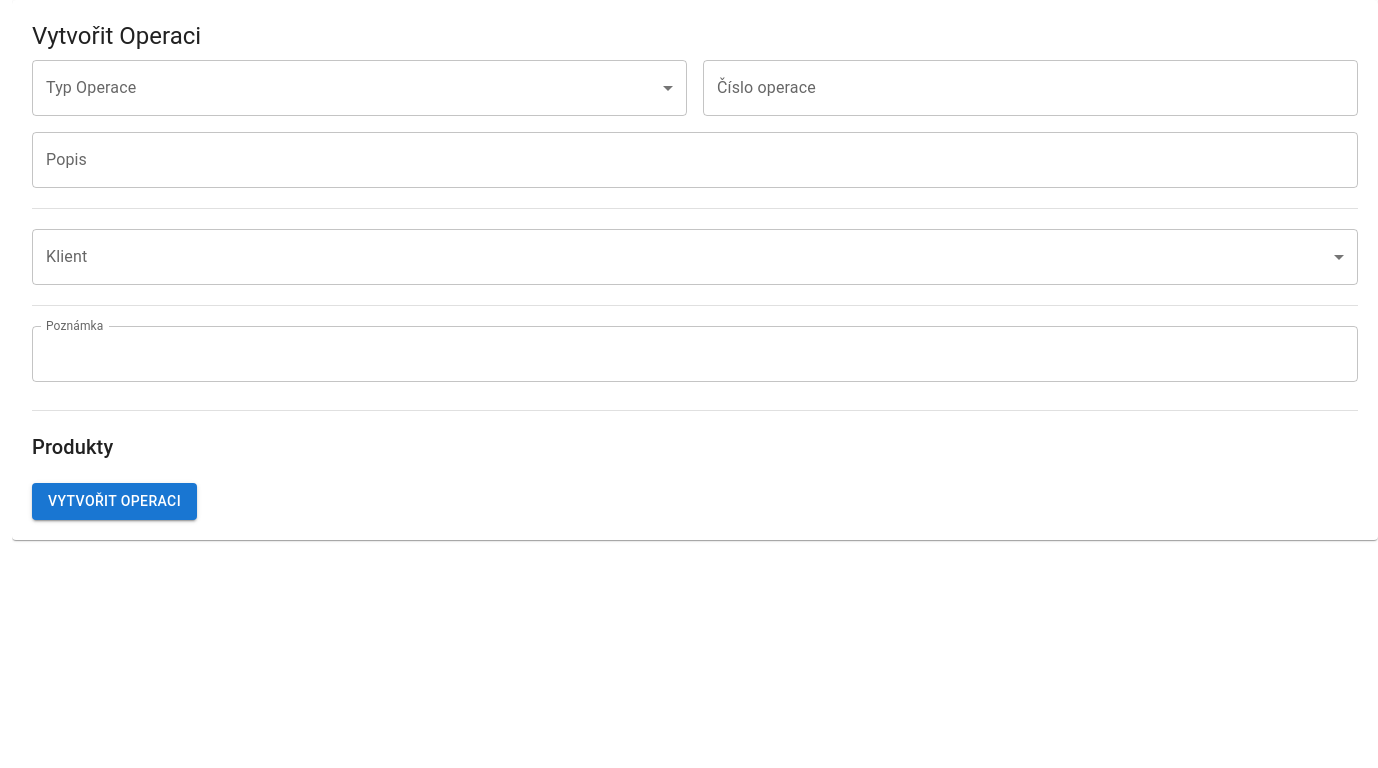
OperationForm › zobrazí chybu při pokusu o uložení bez vyplnění polí
What coordinates should you click on to do the following:
click the button "Vytvořit Operaci"
I would click on:
 (114, 502)
Its box is [32,483,197,520].
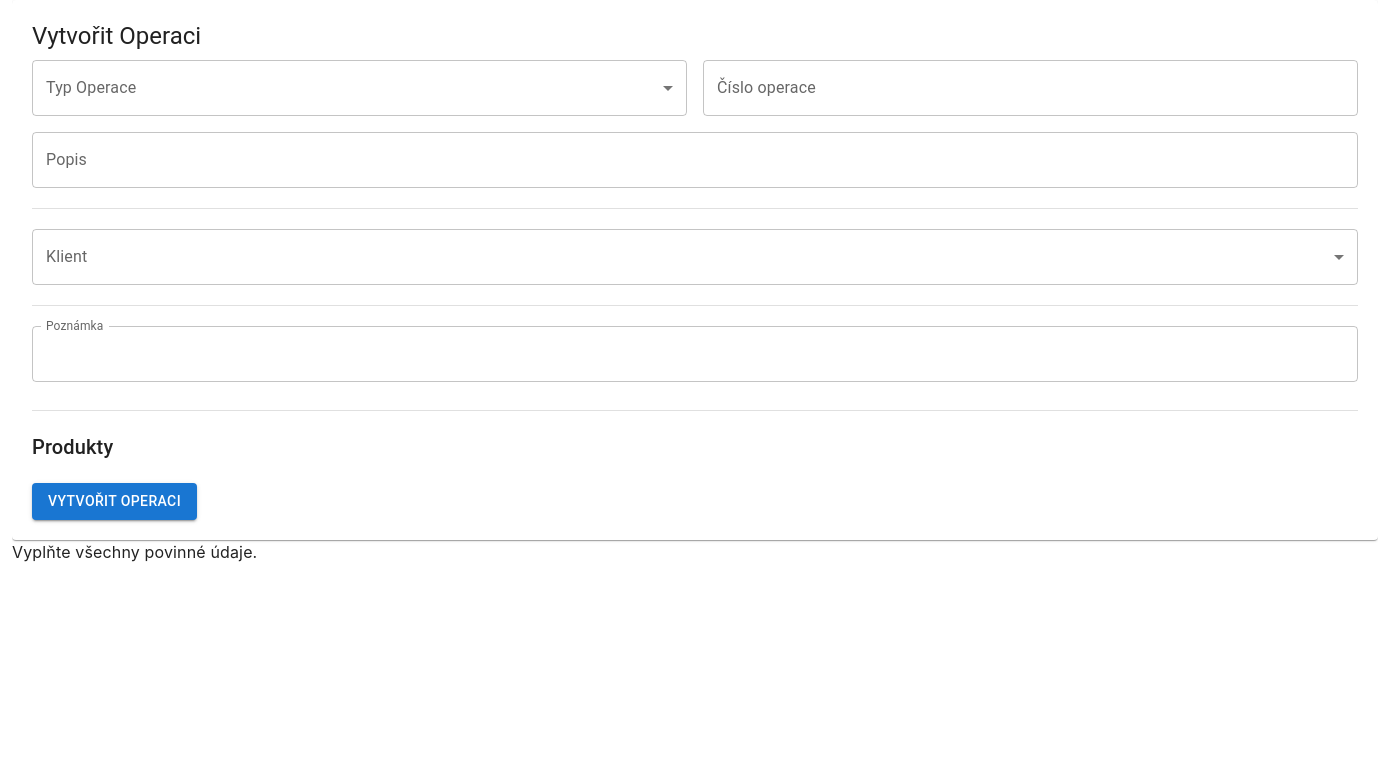
Result: the message shows "Vyplňte všechny povinné" at [12,542,257,562]
